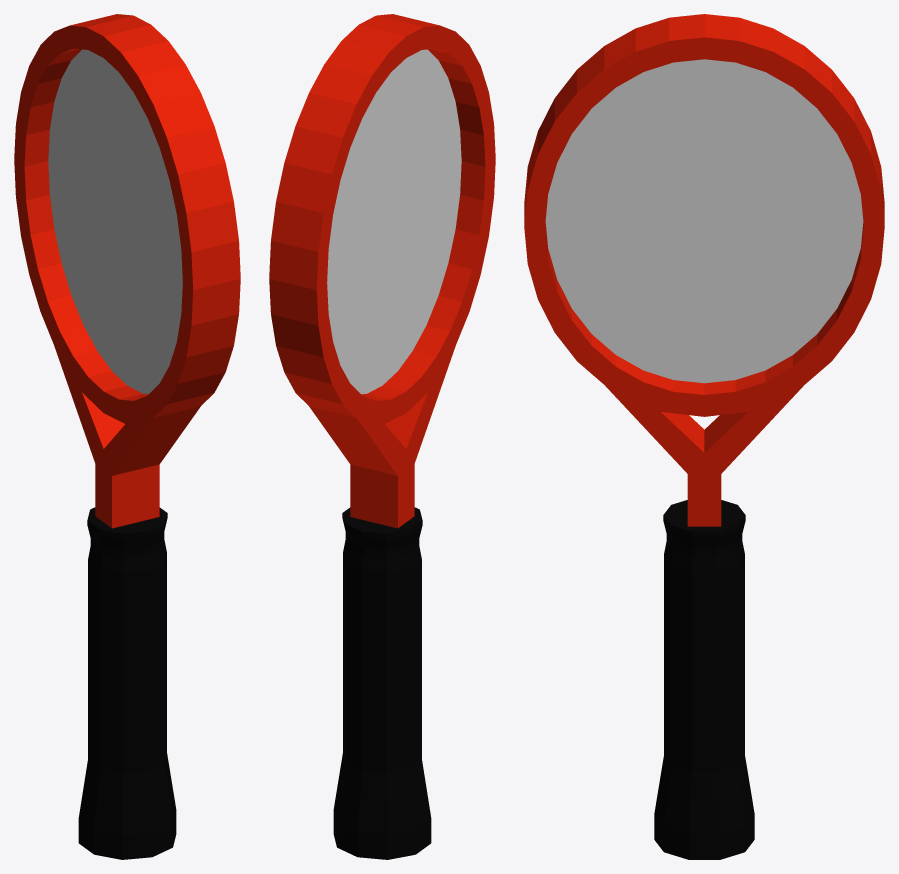
The model's file is racket_2.fbx.
3 views of the same model, side by side, from view 1: azimuth 30°, elevation 25°; view 2: azimuth 150°, elevation 25°; view 3: azimuth 270°, elevation 25° (orthographic).
Visible parts, largest first — view 1: Raqueta, Red; view 2: Raqueta, Red; view 3: Red, Raqueta.
Part boxes in pixels (bbox=[...]): Raqueta: bbox=[14, 14, 240, 859]; Red: bbox=[48, 49, 182, 394]; Raqueta: bbox=[269, 14, 495, 859]; Red: bbox=[327, 49, 461, 394]; Red: bbox=[545, 59, 863, 383]; Raqueta: bbox=[524, 14, 884, 859].
Size of the model in its own units: 51.49 by 485 by 195.
